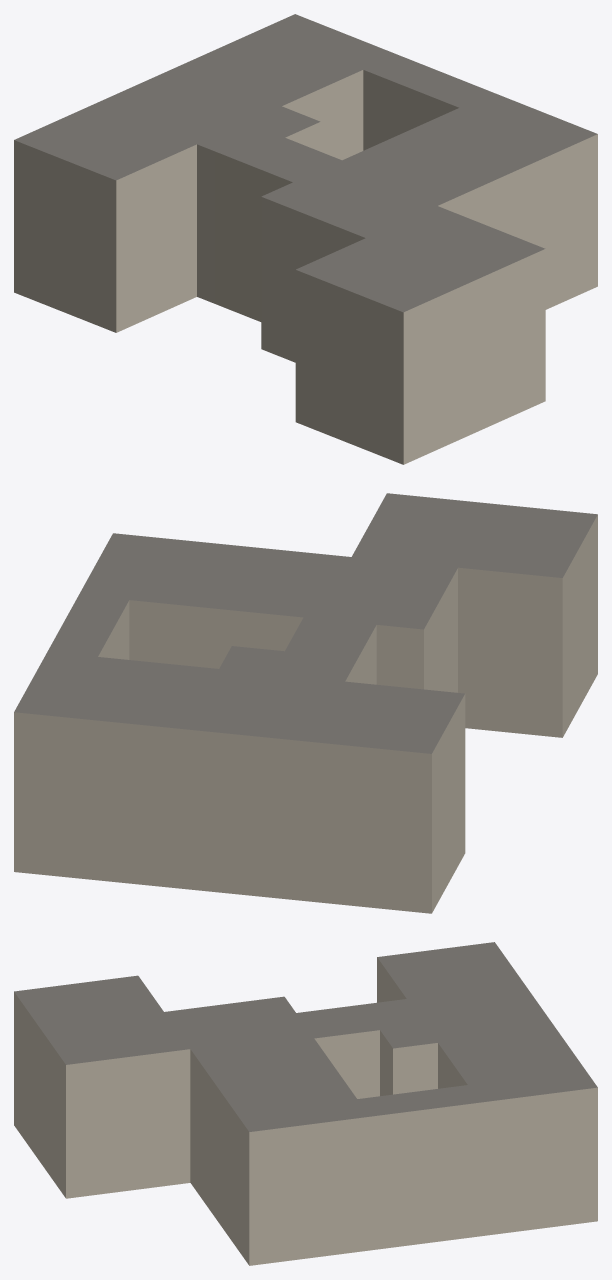
3 views of the same model, one above another, from view 1: azimuth 30°, elevation 25°; view 2: azimuth 150°, elevation 25°; view 3: azimuth 270°, elevation 25° (orthographic). The views are drawn at different scales.
Visible parts, largest first — view 1: HP-r11759371; view 2: HP-r11759371; view 3: HP-r11759371.
Boxes of the visible parts, x1,y1,x2,y2 form: HP-r11759371: [14, 14, 597, 464]; HP-r11759371: [14, 493, 597, 913]; HP-r11759371: [14, 942, 597, 1265].
Bounding box in the file's own units: 54.86 × 18 × 71.21.
